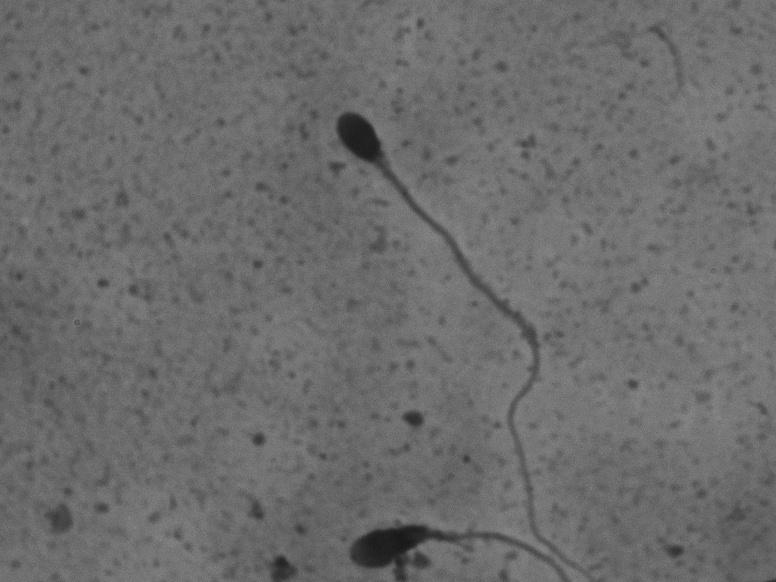Abnormal: (328, 501, 568, 578)
Normal: (313, 102, 599, 581)
